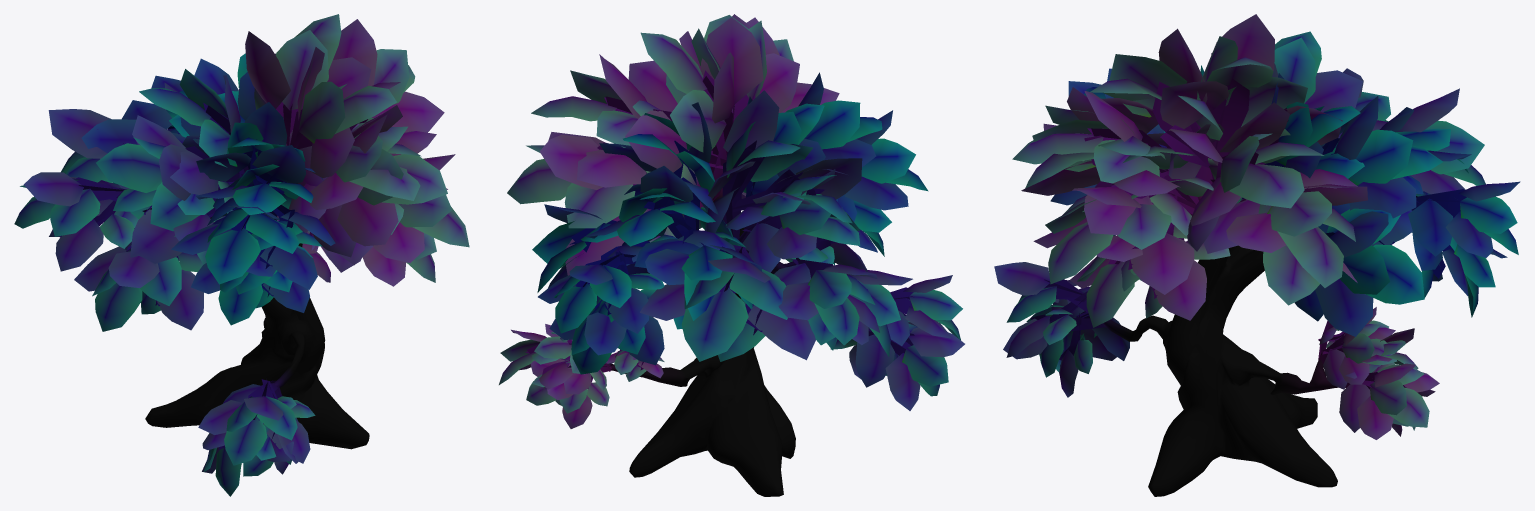
File: smTreeShort.fbx
3 renders of one model, left to right at view 1: azimuth 30°, elevation 25°; view 2: azimuth 150°, elevation 25°; view 3: azimuth 270°, elevation 25°, orthographic. The views are drawn at different scales.
Parts seen in each view (by area): view 1: treeShort; view 2: treeShort; view 3: treeShort.
Part boxes in pixels (box(x1,y1,x2,y2)): treeShort: box(14, 14, 469, 496); treeShort: box(499, 14, 964, 496); treeShort: box(994, 14, 1520, 496).
Bounding box in the file's own units: 796 × 834 × 885.
